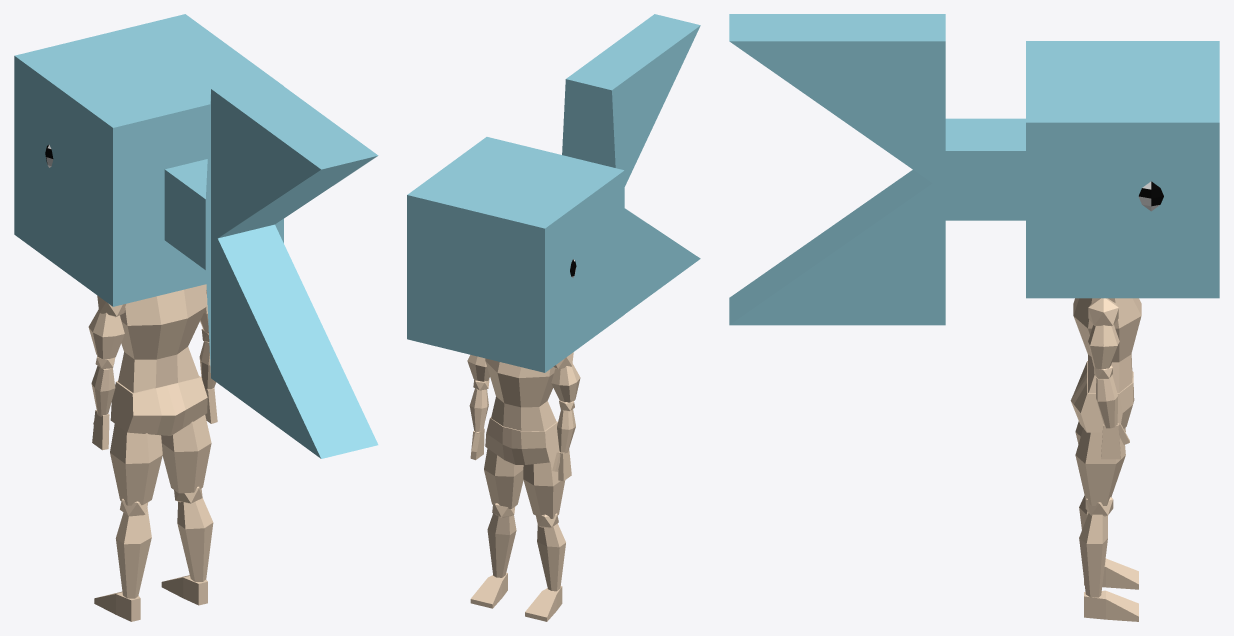
Rendered from Basicfish.glb.
3 views of the same model, side by side, from view 1: azimuth 30°, elevation 25°; view 2: azimuth 150°, elevation 25°; view 3: azimuth 270°, elevation 25° (orthographic). The views are drawn at different scales.
Visible parts, largest first — view 1: Cube, Character_Cube.025; view 2: Cube, Character_Cube.025; view 3: Cube, Character_Cube.025.
Part boxes in pixels (bbox=[...]): Cube: bbox=[14, 14, 378, 458]; Character_Cube.025: bbox=[88, 284, 217, 621]; Cube: bbox=[407, 14, 700, 372]; Character_Cube.025: bbox=[467, 352, 580, 621]; Cube: bbox=[729, 14, 1219, 325]; Character_Cube.025: bbox=[1070, 298, 1141, 621].
Size of the model in its own units: 1.5 by 4.67 by 3.63.
Materials: 3 (3 with a texture image).
